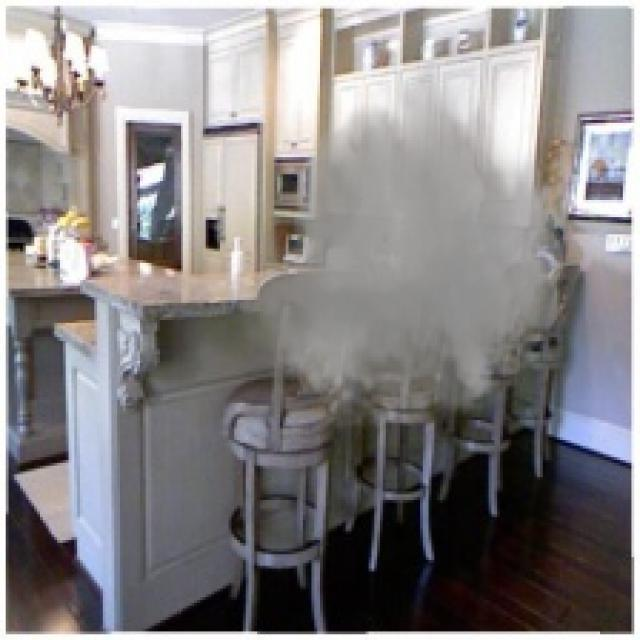Smoke: (228, 57, 572, 446)
